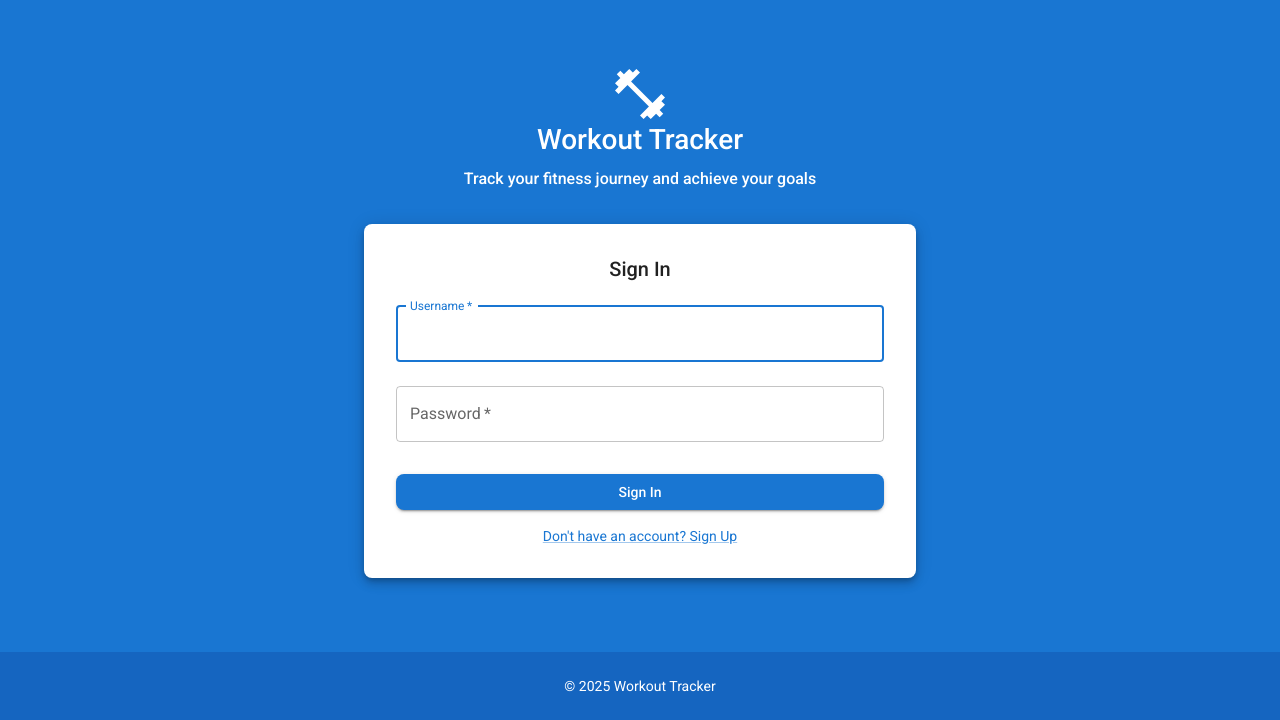
Test case: Authentication Flow › should show error message for invalid login
The width and height of the screenshot is (1280, 720).
# Fill the login form
Type "wronguser" into the field named "username". click: (640, 334)
box: [396,306,884,362]
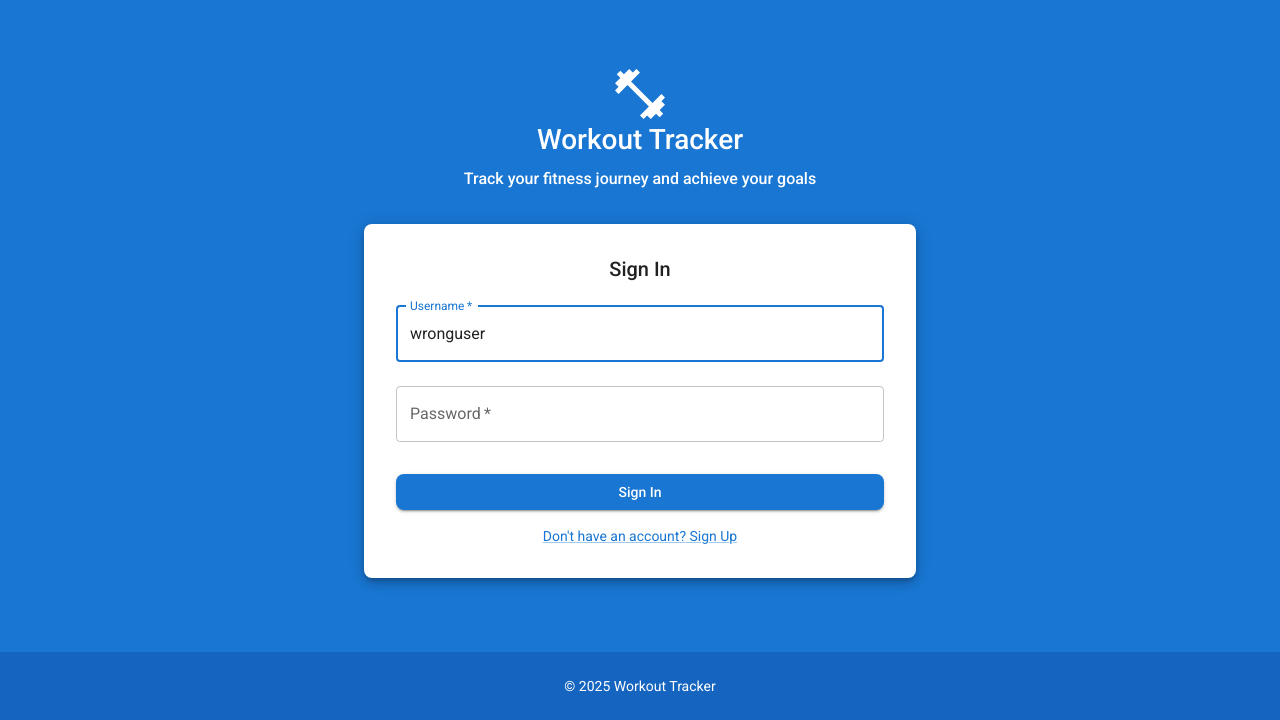
Type "WrongPassword" into the password field named "password". click: (640, 414)
box: [396,386,884,442]
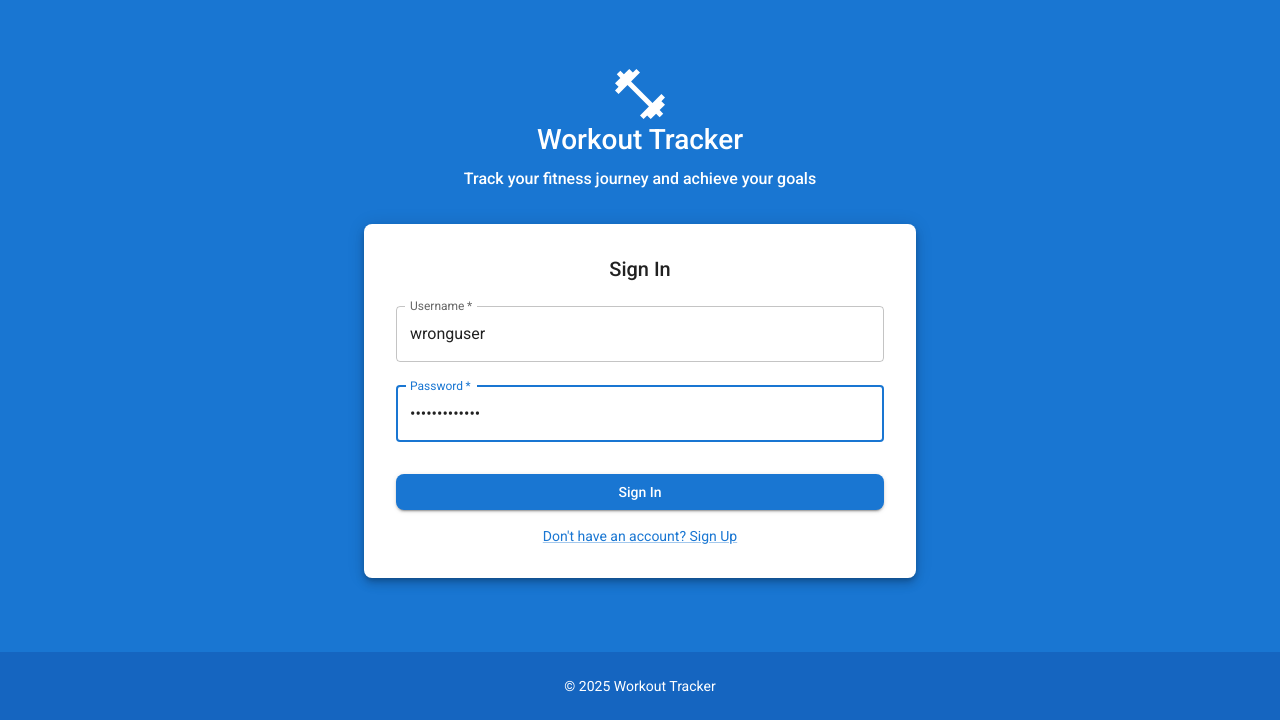
# Submit the form
Click the submit button. click: (640, 493)
box: [396,474,884,511]
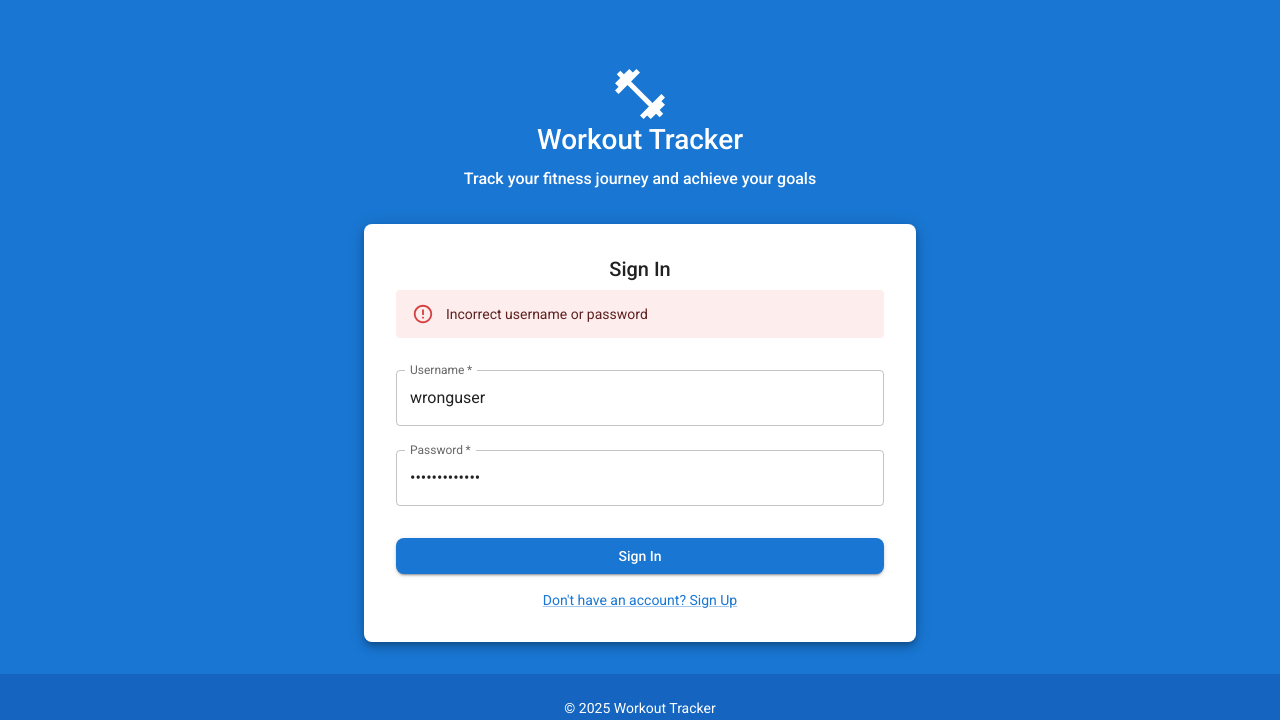
Expected: the text "Incorrect username or password" is shown, [446,306,648,322]
